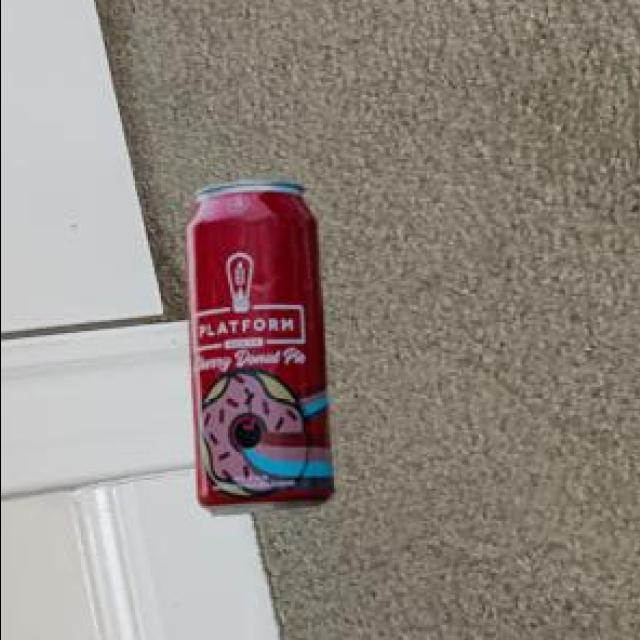logam: (181, 185, 330, 518)
